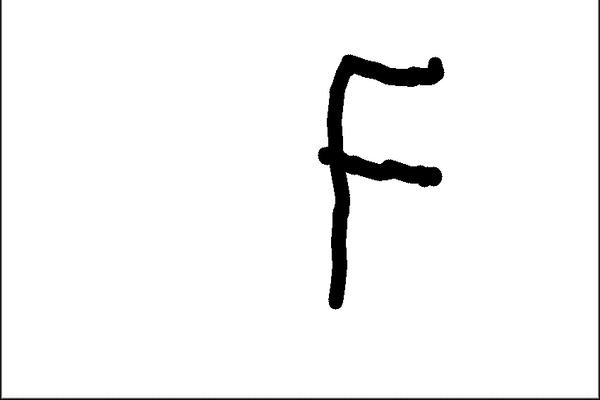F: (313, 51, 453, 313)
